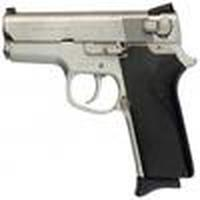gun: (2, 4, 197, 174)
